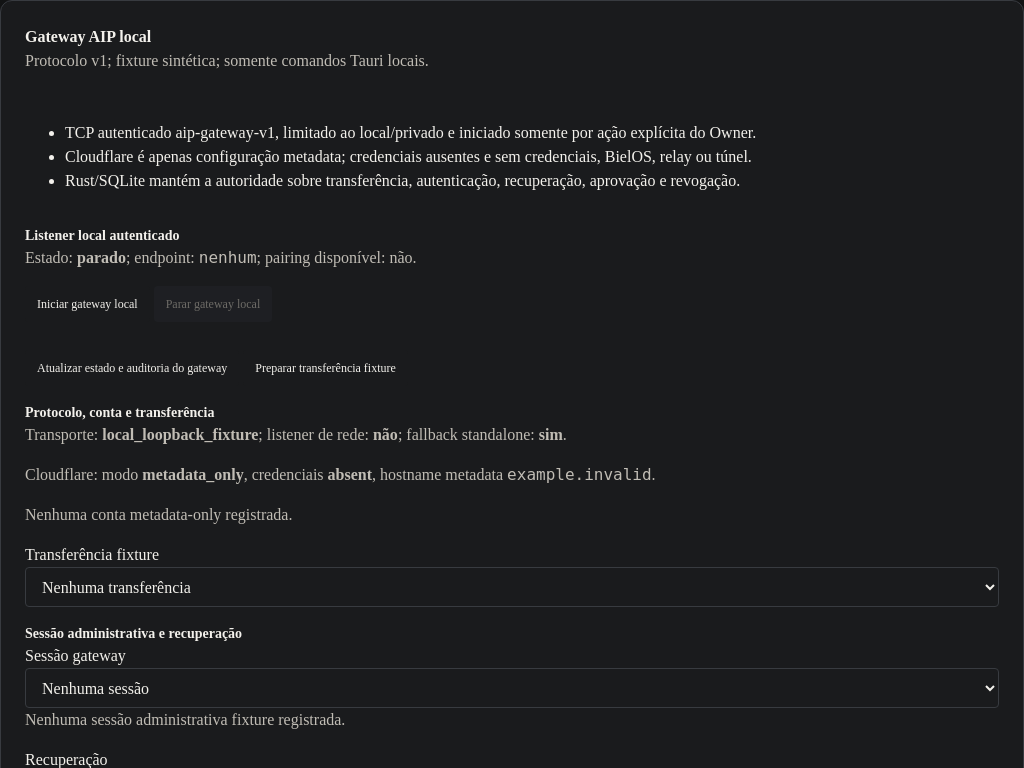
it: GatewayControls › loads status and starts/stops the listener with transient pairing
Click the button "Iniciar gateway local": coordinates (87, 304) [25, 286, 150, 322]
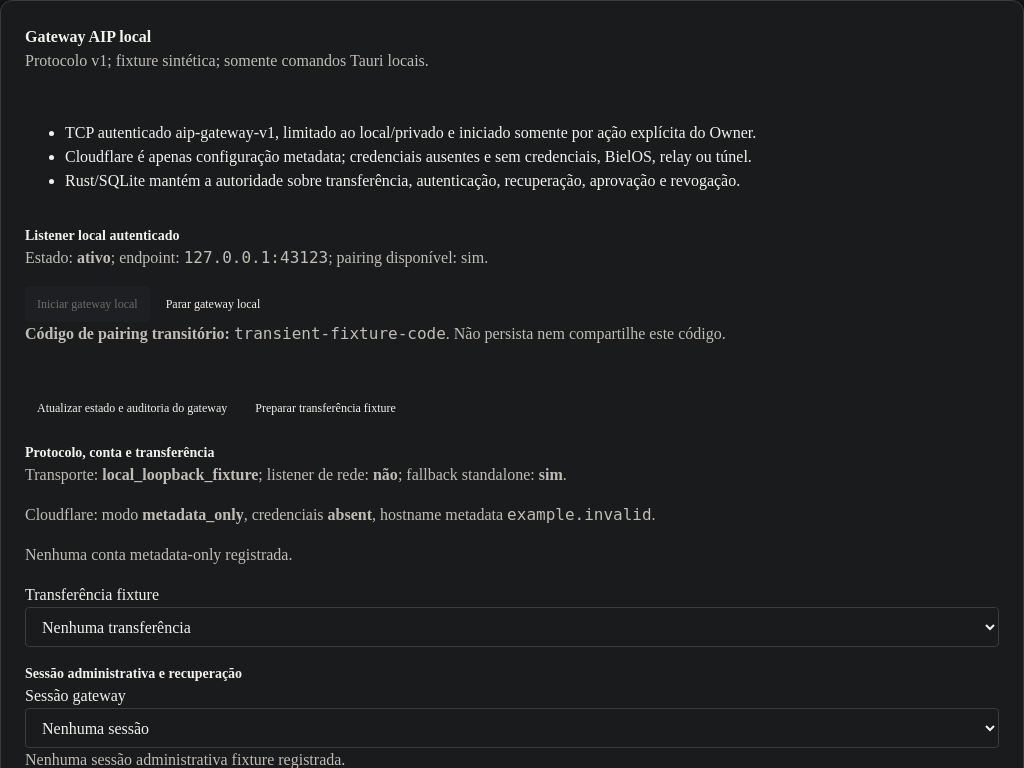
Expected: the text "transient-fixture-code" is shown, [234, 324, 446, 343]
Click the button "Parar gateway local": coordinates (213, 304) [154, 286, 272, 322]
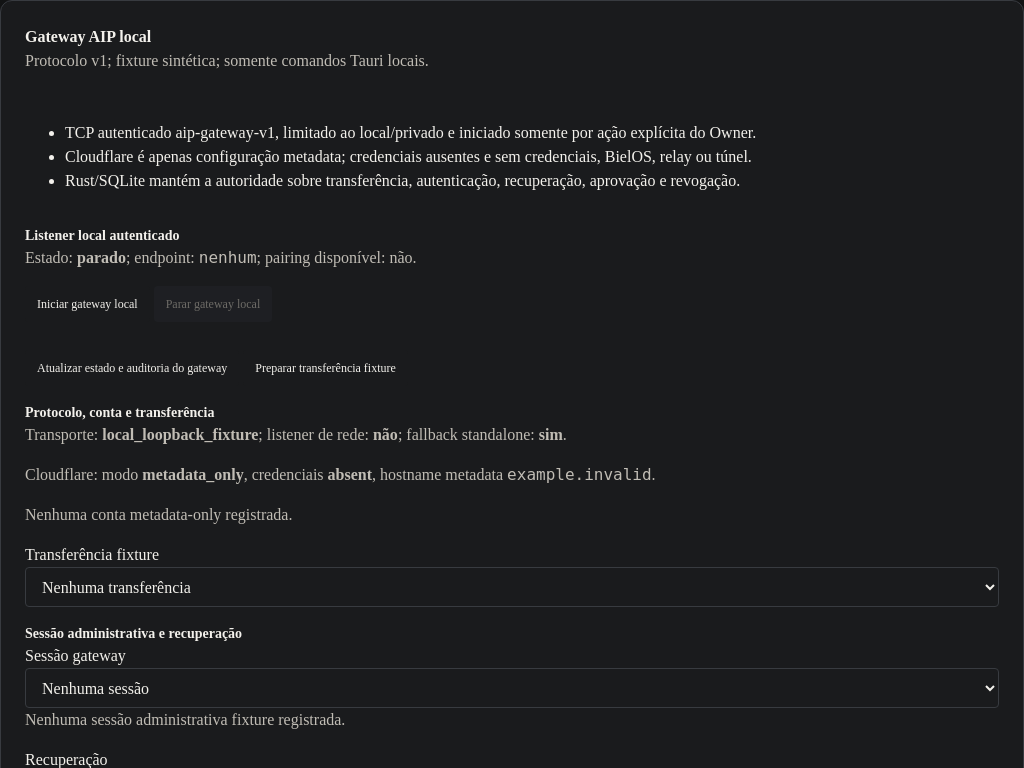
Expected: the text "transient-fixture-code" is gone
